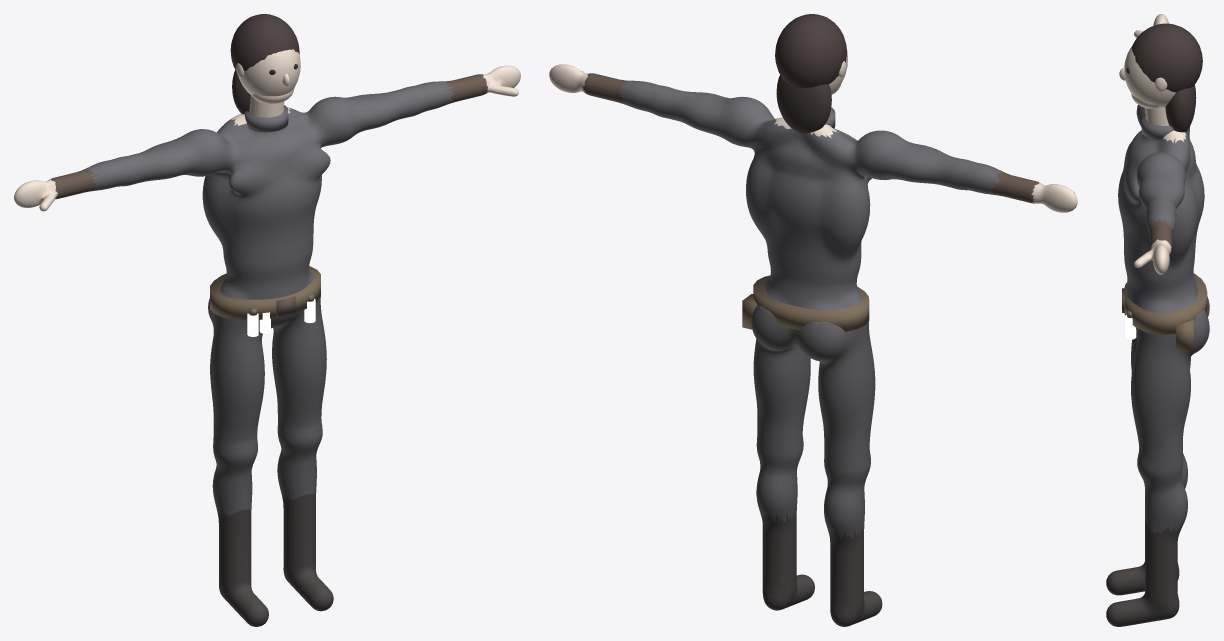
Rendered from allomancer.fbx.
3 renders of one model, left to right at view 1: azimuth 30°, elevation 25°; view 2: azimuth 150°, elevation 25°; view 3: azimuth 270°, elevation 25°, orthographic. The views are drawn at different scales.
Parts seen in each view (by area): view 1: Allomancer; view 2: Allomancer; view 3: Allomancer.
Boxes of the visible parts, box(x1,y1,x2,y2) form: Allomancer: box(14, 14, 520, 626); Allomancer: box(549, 14, 1077, 626); Allomancer: box(1106, 14, 1209, 626).
Size of the model in its own units: 1.64 by 1.81 by 0.2914.
